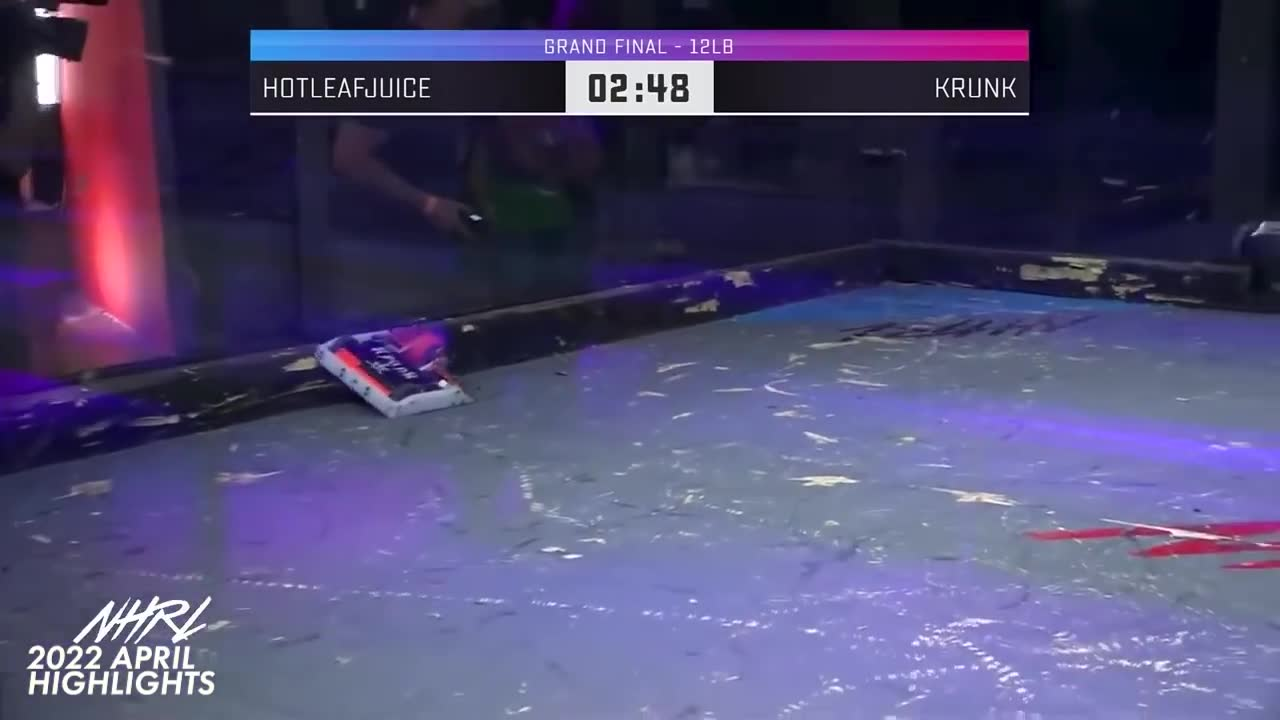combatbot: (316, 327, 457, 418)
